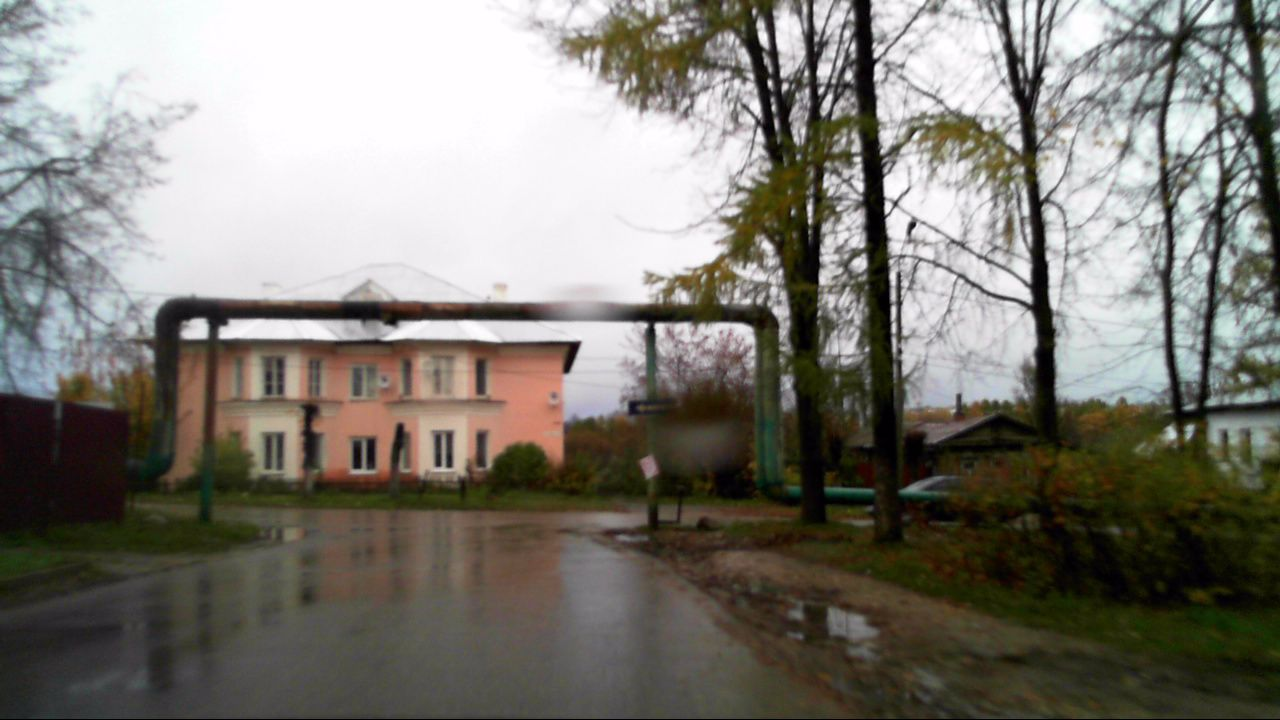One-Way Traffic: (628, 401, 679, 413)
